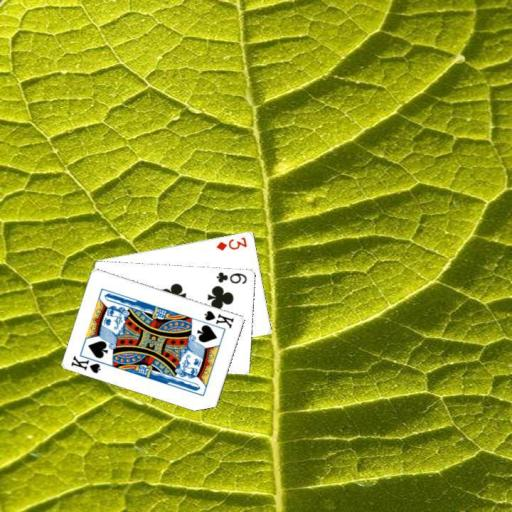3D: (214, 233, 249, 252)
6C: (214, 268, 249, 285)
KS: (69, 351, 108, 375), (202, 307, 236, 329)
